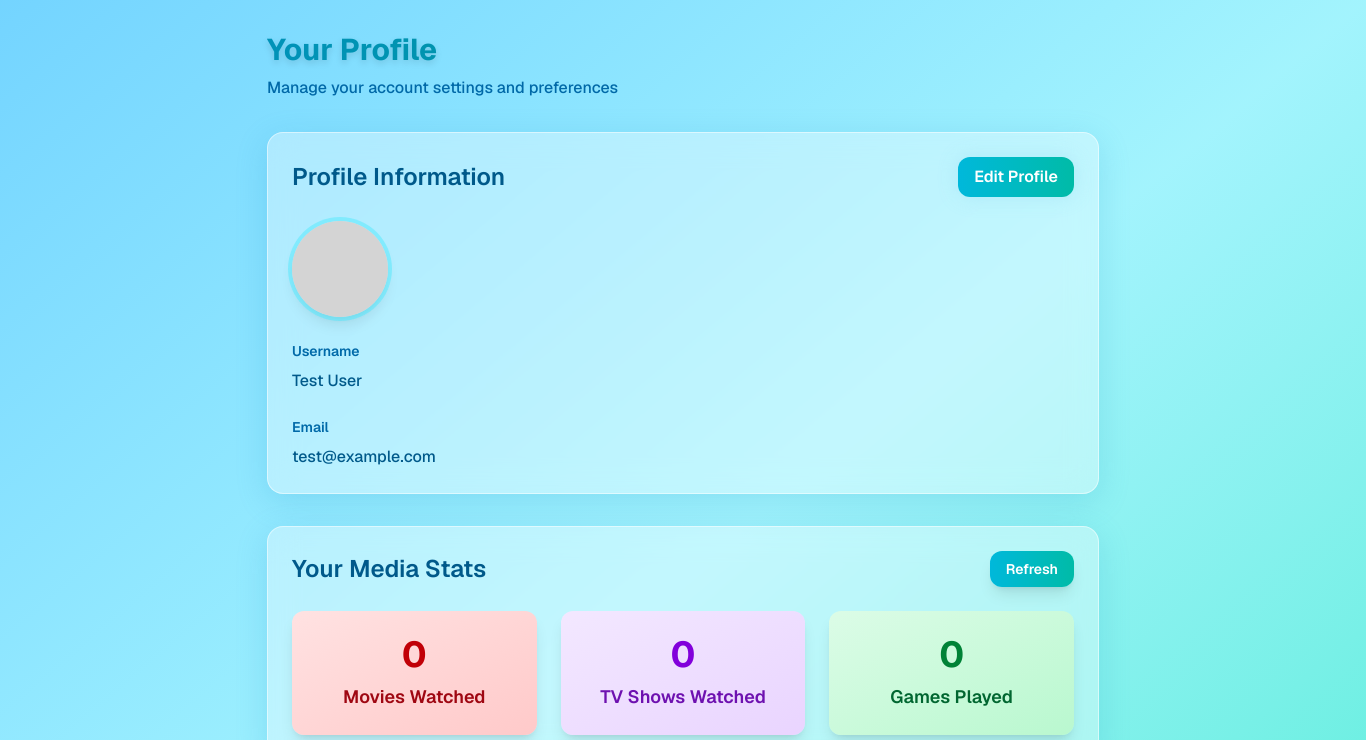
Profile Picture Upload › shows file type and size restrictions
What coordinates should you click on to do the following:
click the button "Edit Profile"
I would click on:
 (1016, 177)
Its box is [958,157,1074,197].
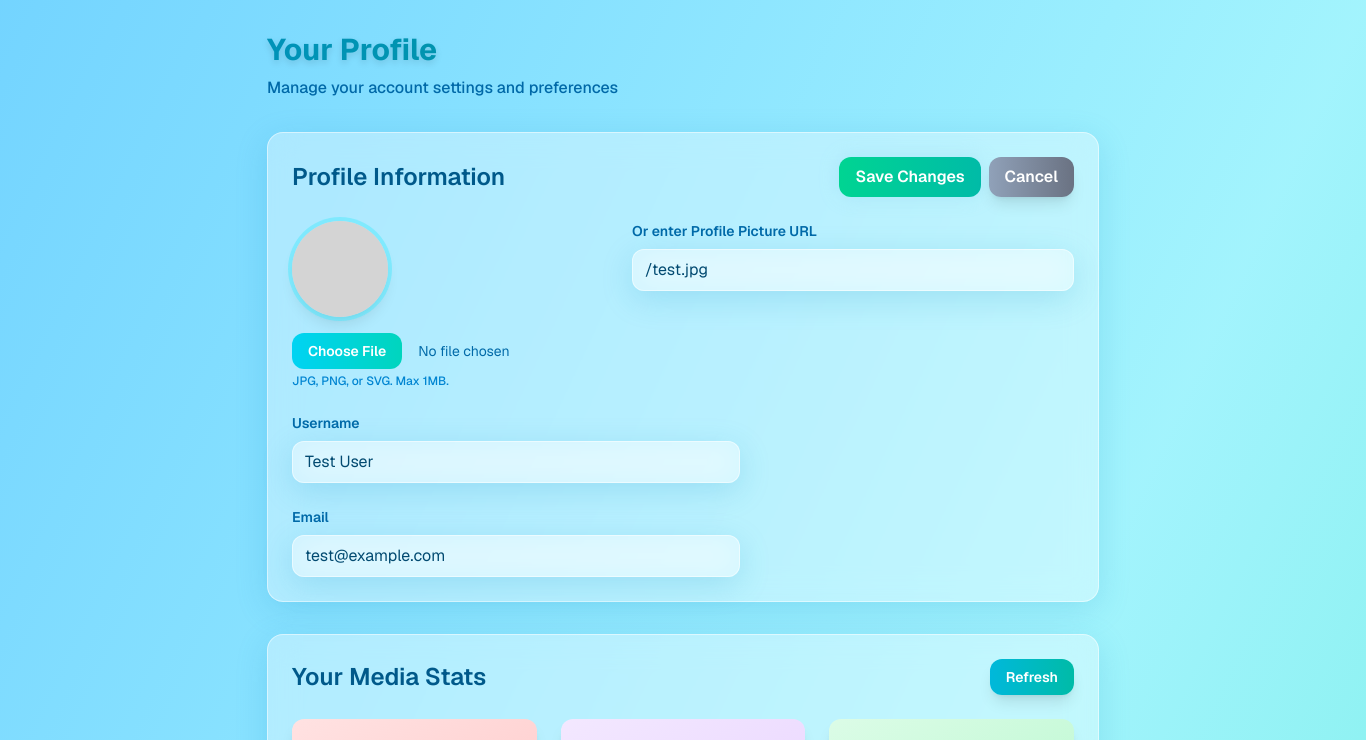
Now the text "JPG, PNG, or SVG. Max 1MB." is shown, box [292,373,449,389]
